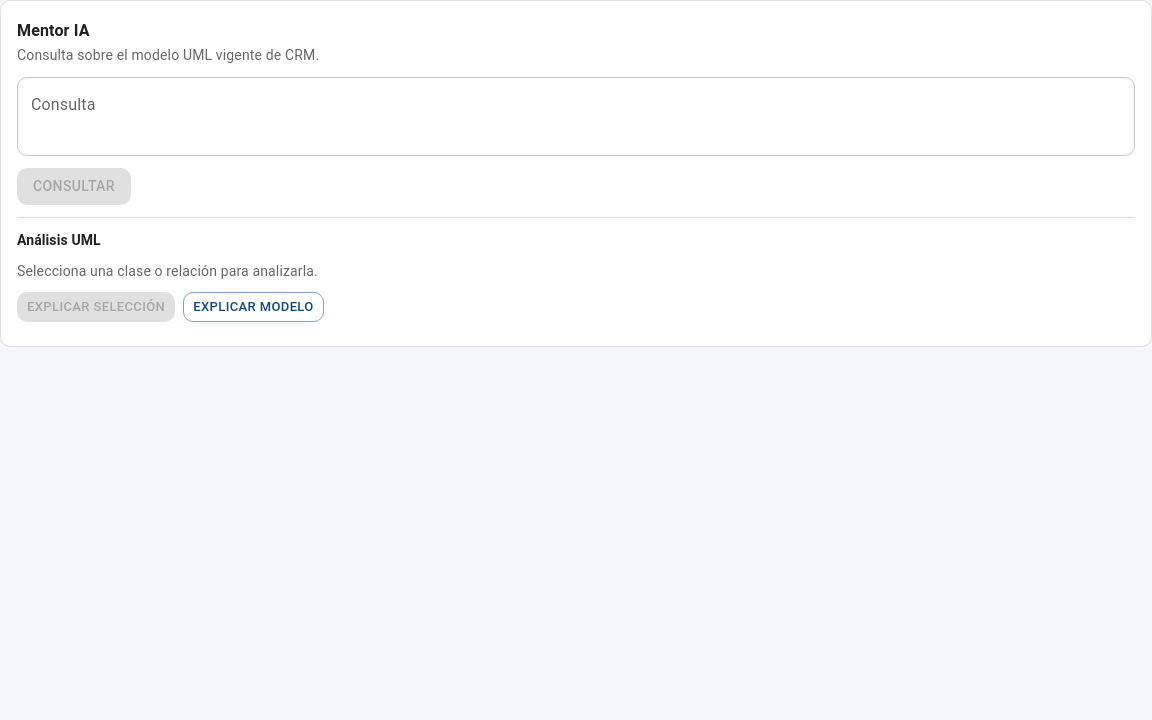
it: UmlAnalysisSection: carga y resultado › U-11: un contexto recortado muestra un aviso informativo con lo omitido
What coordinates should you click on to do the following:
click the button "Explicar modelo"
I would click on:
 (253, 307)
Its box is [183, 292, 324, 322].
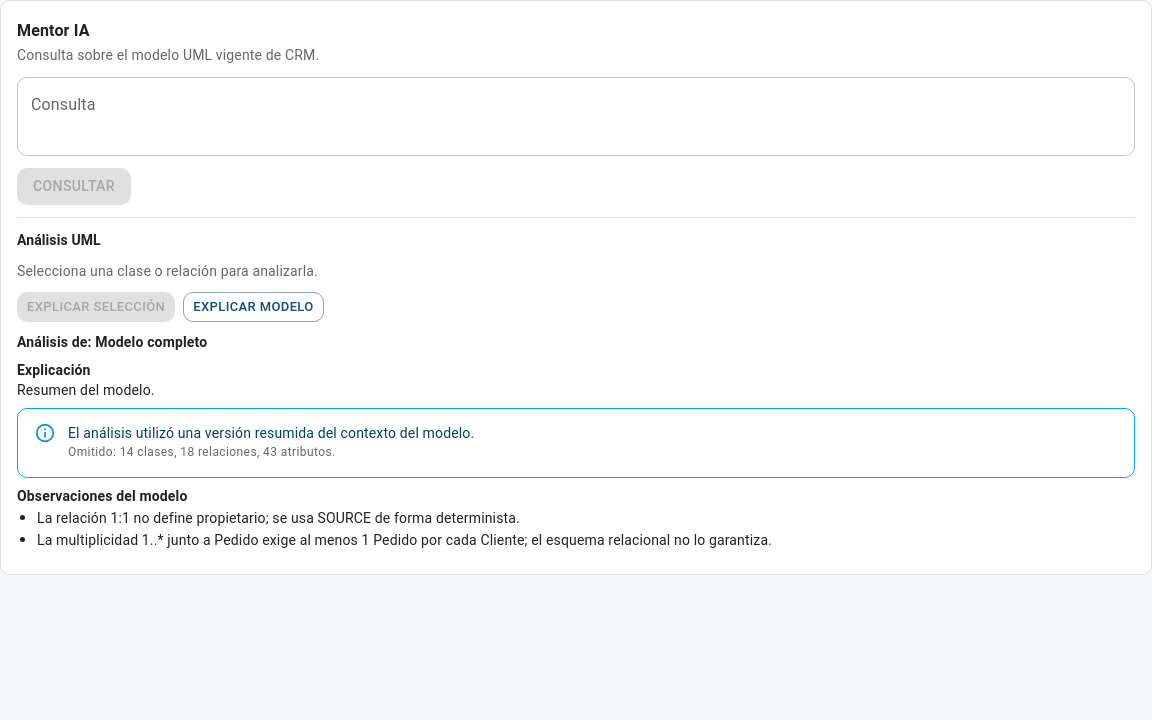
Check: the text "El análisis utilizó una versión resumida del contexto del modelo." is shown, box [68, 425, 474, 441]
Check: the text "Omitido: 14 clases, 18 relaciones, 43 atributos." is shown, box [68, 445, 336, 459]
